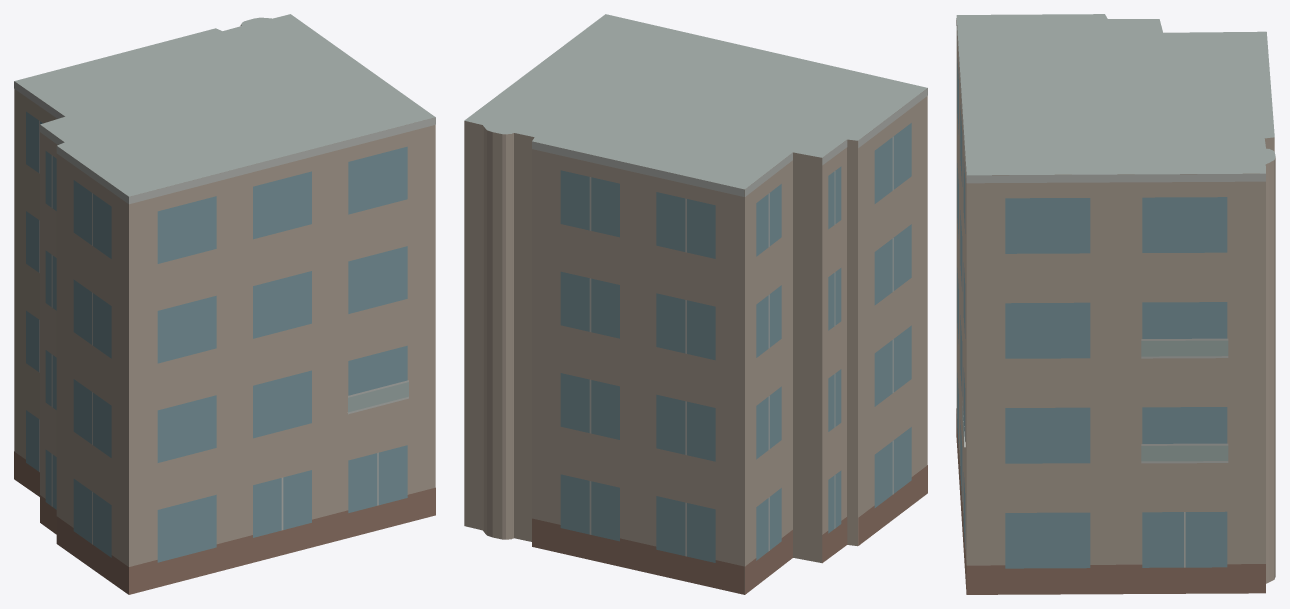
The model's file is survey-upis-33022941.glb.
3 views of the same model, side by side, from view 1: azimuth 30°, elevation 25°; view 2: azimuth 150°, elevation 25°; view 3: azimuth 270°, elevation 25° (orthographic). The views are drawn at different scales.
Visible parts, largest first — view 1: survey-upis-33022941.tmp; view 2: survey-upis-33022941.tmp; view 3: survey-upis-33022941.tmp.
Boxes of the visible parts, x1,y1,x2,y2 form: survey-upis-33022941.tmp: (14,14,435,594); survey-upis-33022941.tmp: (464,14,927,594); survey-upis-33022941.tmp: (956,14,1275,594).
Size of the model in its own units: 10.56 by 12.8 by 8.83.
